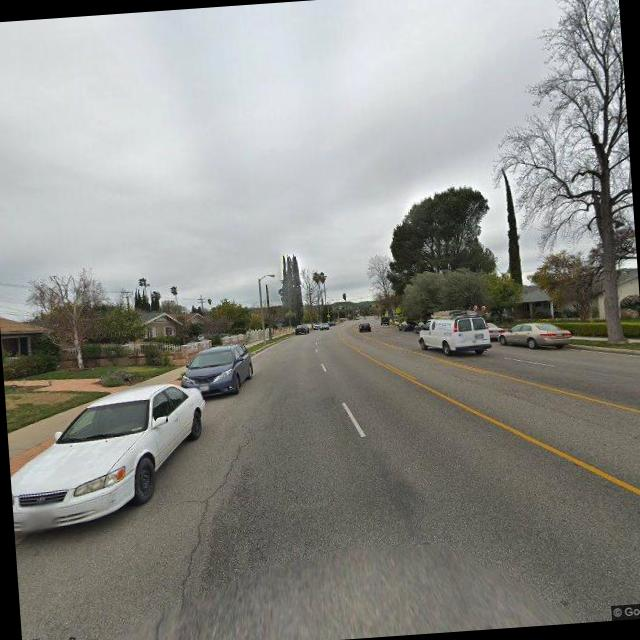pothole: (135, 413, 271, 640)
